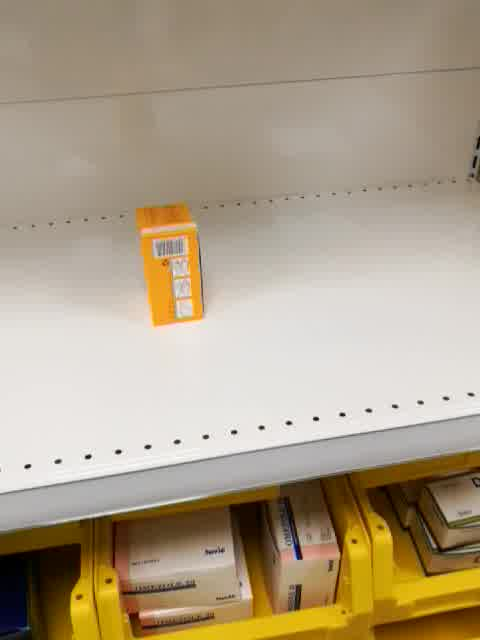jasminetea: (136, 200, 205, 329)
